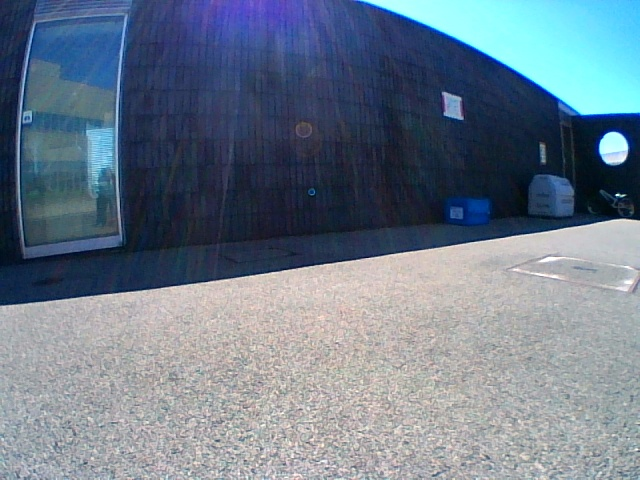blue_box: (448, 198, 488, 225)
tag: (449, 207, 462, 219)
